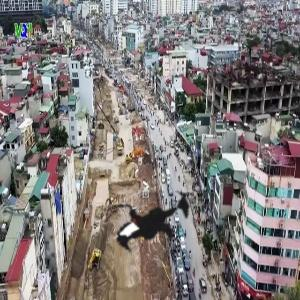drone: (84, 147, 220, 283)
